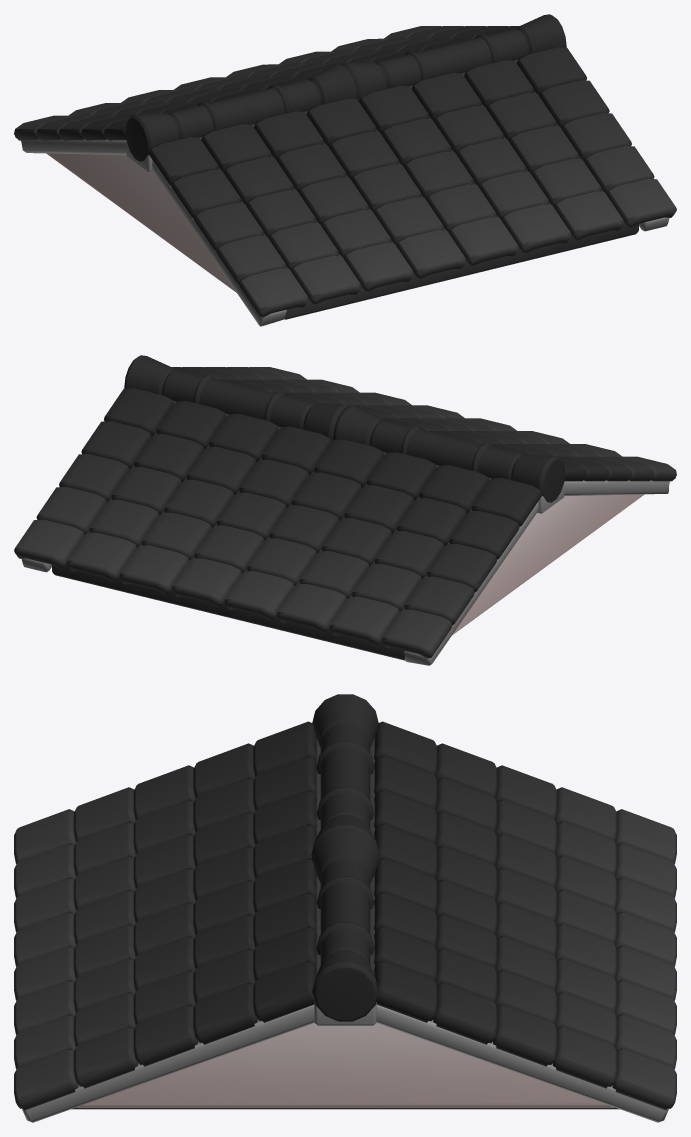
The model's file is SM_Wood_Roof_02.fbx.
The picture shows the model from 3 angles, top to bottom: view 1: azimuth 30°, elevation 25°; view 2: azimuth 150°, elevation 25°; view 3: azimuth 270°, elevation 25°; orthographic projection. The views are drawn at different scales.
Visible parts, largest first — view 1: SM_Wood_Roof_02; view 2: SM_Wood_Roof_02; view 3: SM_Wood_Roof_02.
Part boxes in pixels (x1=…): SM_Wood_Roof_02: x1=14, y1=14, x2=676, y2=326; SM_Wood_Roof_02: x1=14, y1=355, x2=676, y2=665; SM_Wood_Roof_02: x1=14, y1=694, x2=676, y2=1122.
Size of the model in its own units: 1.99 by 0.5697 by 2.04.
